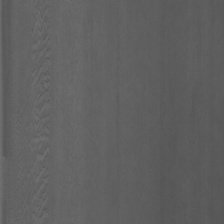silk_spot: (28, 5, 56, 204)
